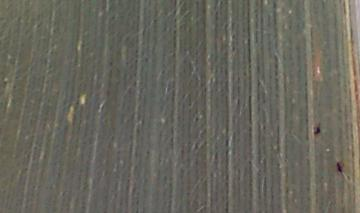tarspot: (334, 161, 344, 174), (311, 125, 322, 136)
